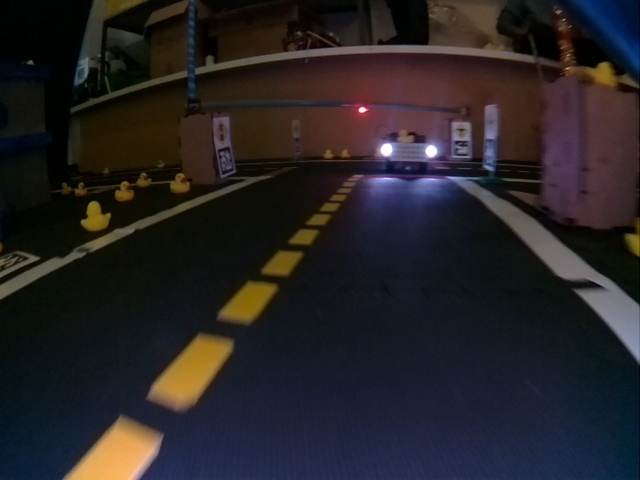Duckie: (81, 201, 110, 231), (171, 174, 189, 192), (115, 182, 133, 199), (137, 173, 150, 187), (396, 133, 413, 142), (76, 182, 87, 195), (61, 182, 71, 193), (323, 149, 332, 158), (157, 161, 165, 170), (103, 168, 111, 177), (340, 150, 348, 157)
Duckiebot: (379, 131, 437, 174)
Intersection sign: (453, 123, 468, 138)
QR code: (1, 250, 39, 275), (218, 147, 234, 176), (454, 142, 469, 157)
Signal sign: (214, 121, 229, 144)
